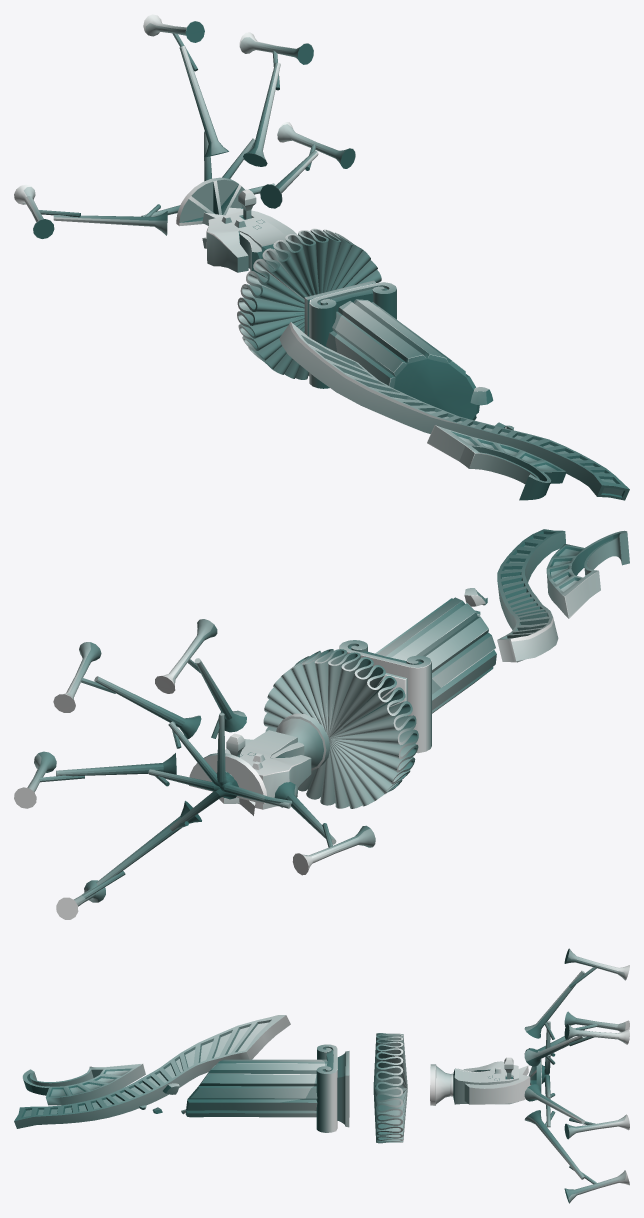
The model's file is Arm_Integrity_B.fbx.
The picture shows the model from 3 angles, top to bottom: view 1: azimuth 30°, elevation 25°; view 2: azimuth 150°, elevation 25°; view 3: azimuth 270°, elevation 25°; orthographic projection. The views are drawn at different scales.
Visible parts, largest first — view 1: Lattice, Pillar, Flower, Controller, finger_2, finger_1, finger_4, Palm, finger_3; view 2: Flower, Pillar, Lattice, Controller, finger_2, finger_3, finger_1, finger_4, finger_5, Palm; view 3: Lattice, Pillar, Controller, Flower, finger_1, finger_5, finger_3, finger_2, finger_4.
Boxes of the visible parts, x1=… form: Lattice: x1=279, y1=322, x2=629, y2=500; Pillar: x1=304, y1=280, x2=513, y2=430; Flower: x1=237, y1=228, x2=381, y2=379; Controller: x1=202, y1=189, x2=296, y2=278; finger_2: x1=222, y1=32, x2=313, y2=178; finger_1: x1=143, y1=14, x2=228, y2=181; finger_4: x1=14, y1=184, x2=180, y2=238; Palm: x1=176, y1=177, x2=245, y2=226; finger_3: x1=249, y1=122, x2=355, y2=208; Flower: x1=263, y1=649, x2=418, y2=808; Pillar: x1=339, y1=588, x2=496, y2=753; Lattice: x1=497, y1=529, x2=629, y2=662; Controller: x1=219, y1=713, x2=330, y2=815; finger_2: x1=53, y1=642, x2=233, y2=786; finger_3: x1=14, y1=751, x2=224, y2=808; finger_1: x1=155, y1=619, x2=246, y2=786; finger_4: x1=220, y1=779, x2=375, y2=875; finger_5: x1=56, y1=779, x2=238, y2=919; Palm: x1=189, y1=753, x2=266, y2=804; Lattice: x1=14, y1=1015, x2=290, y2=1128; Pillar: x1=139, y1=1044, x2=349, y2=1132; Controller: x1=430, y1=1057, x2=530, y2=1105; Flower: x1=373, y1=1033, x2=407, y2=1143; finger_1: x1=524, y1=948, x2=629, y2=1077; finger_5: x1=524, y1=1081, x2=629, y2=1203; finger_3: x1=524, y1=1074, x2=629, y2=1139; finger_2: x1=524, y1=1024, x2=629, y2=1077; finger_4: x1=524, y1=1011, x2=629, y2=1073.
Size of the model in its own units: 32.66 by 28.42 by 73.47.
